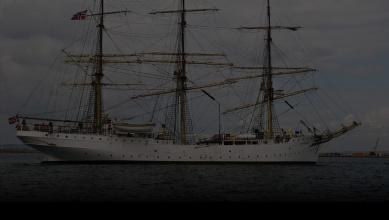fanchuan: (8, 1, 360, 163)
